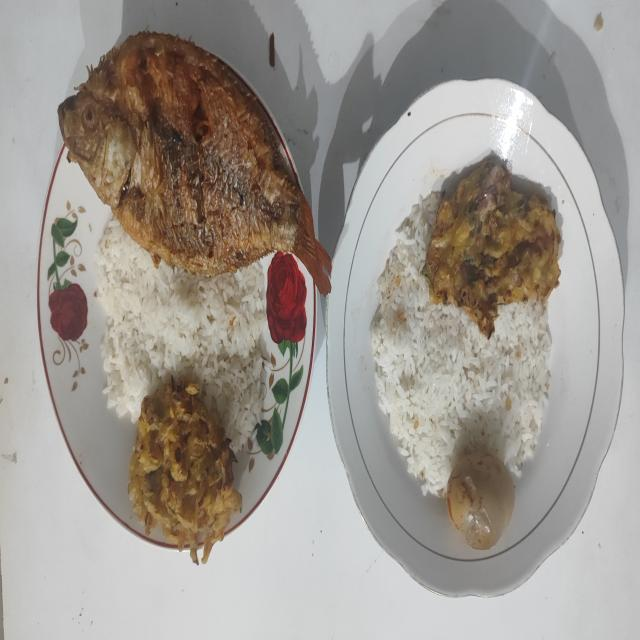ikan_mujair: (58, 33, 331, 294)
nasi_putih: (370, 193, 551, 496), (96, 218, 266, 450)
